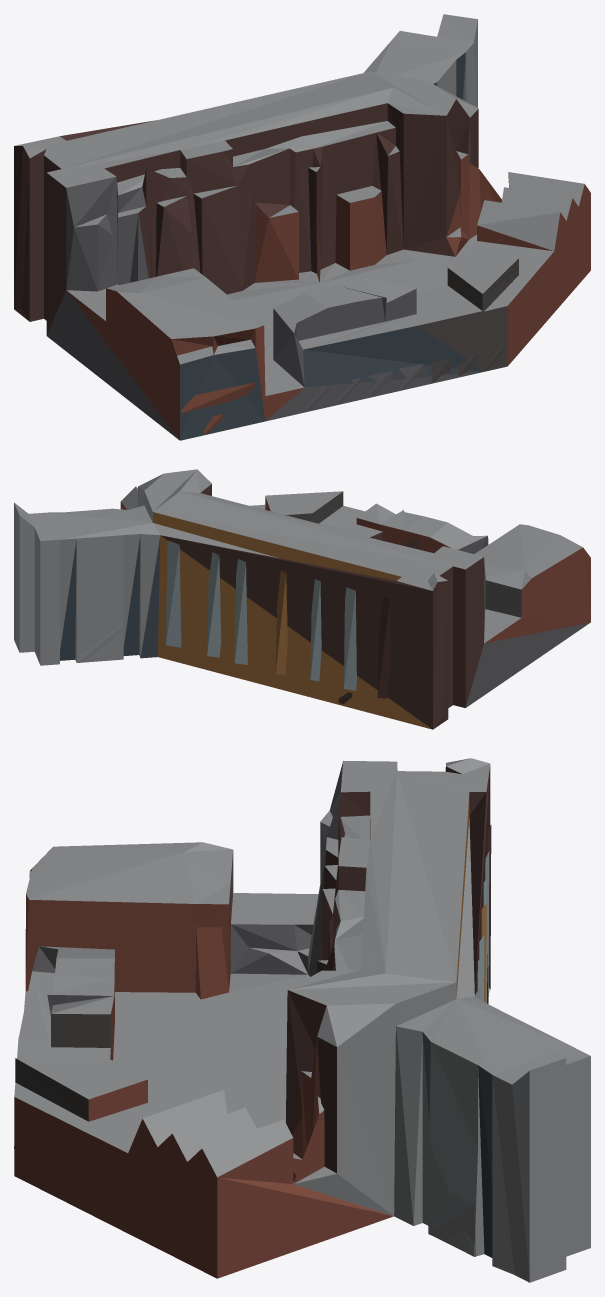
The model's file is houthavenkade-26.lod2.glb.
3 views of the same model, one above another, from view 1: azimuth 30°, elevation 25°; view 2: azimuth 150°, elevation 25°; view 3: azimuth 270°, elevation 25° (orthographic). The views are drawn at different scales.
Parts seen in each view (by area): view 1: lod2; view 2: lod2; view 3: lod2.
Boxes of the visible parts, x1=… form: lod2: x1=14, y1=14, x2=590, y2=440; lod2: x1=14, y1=469, x2=590, y2=729; lod2: x1=14, y1=758, x2=590, y2=1282.
Size of the model in its own units: 90.14 by 29.75 by 70.43.
